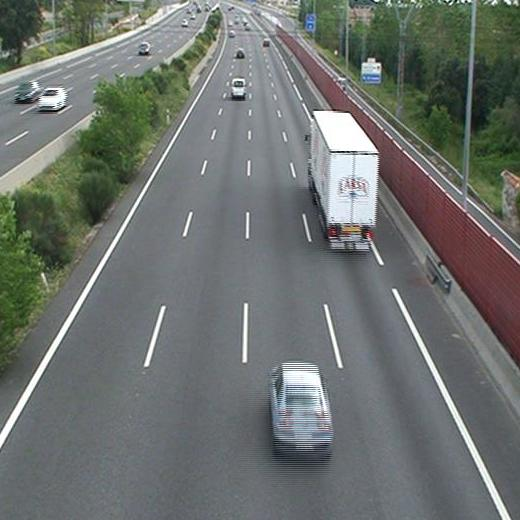car: (271, 363, 331, 451), (236, 48, 245, 58)
truck: (308, 112, 378, 249)
van: (232, 78, 245, 98)
